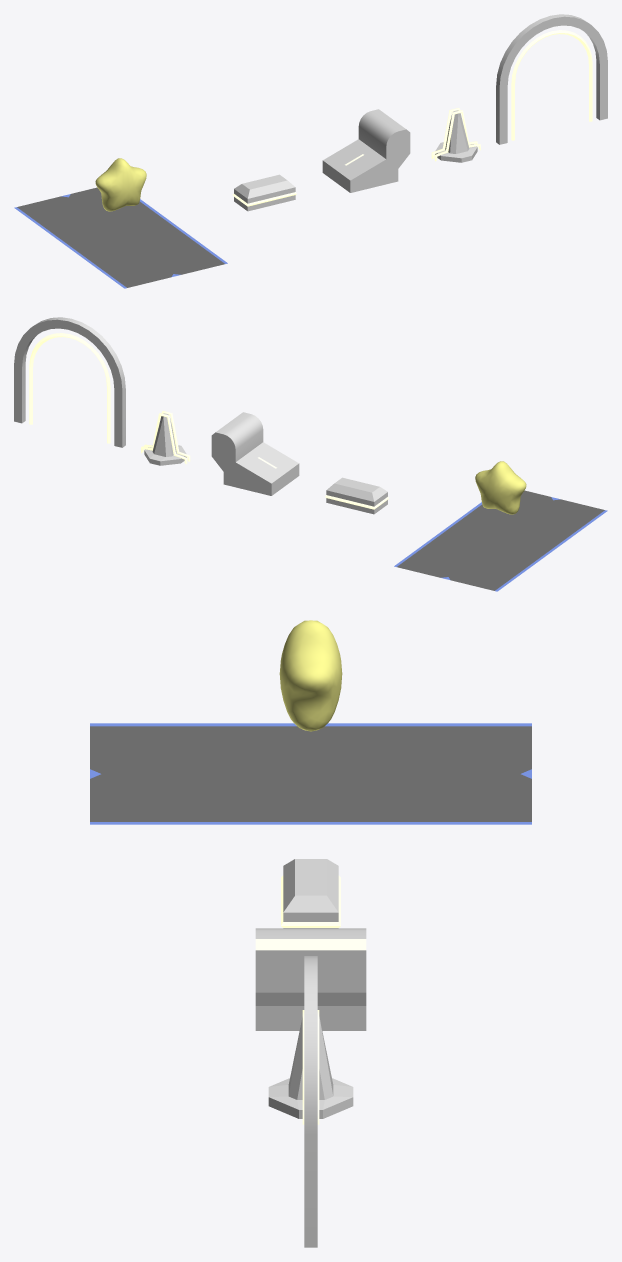
Rendered from RythmGameObject.fbx.
3 renders of one model, top to bottom at view 1: azimuth 30°, elevation 25°; view 2: azimuth 150°, elevation 25°; view 3: azimuth 270°, elevation 25°, orthographic. The views are drawn at different scales.
Parts seen in each view (by area): view 1: floor, block.003, block.004, goal, block, block.002; view 2: floor, block.003, block.004, goal, block, block.002; view 3: floor, block.003, goal, block.004, block, block.002.
Boxes of the visible parts, x1,y1,x2,y2 form: floor: (14,187,227,288); block.003: (322,109,410,192); block.004: (496,14,607,144); goal: (95,158,146,211); block: (232,174,296,211); block.002: (431,108,480,162); floor: (394,490,607,591); block.003: (211,412,299,495); block.004: (14,317,125,447); goal: (475,461,526,514); block: (325,477,389,514); block.002: (141,411,190,465); floor: (90,723,531,824); block.003: (255,928,366,1030); goal: (279,620,342,731); block.004: (304,956,317,1247); block: (281,859,340,928); block.002: (268,1010,353,1124).
Size of the model in its own units: 1122 by 228 by 400.
